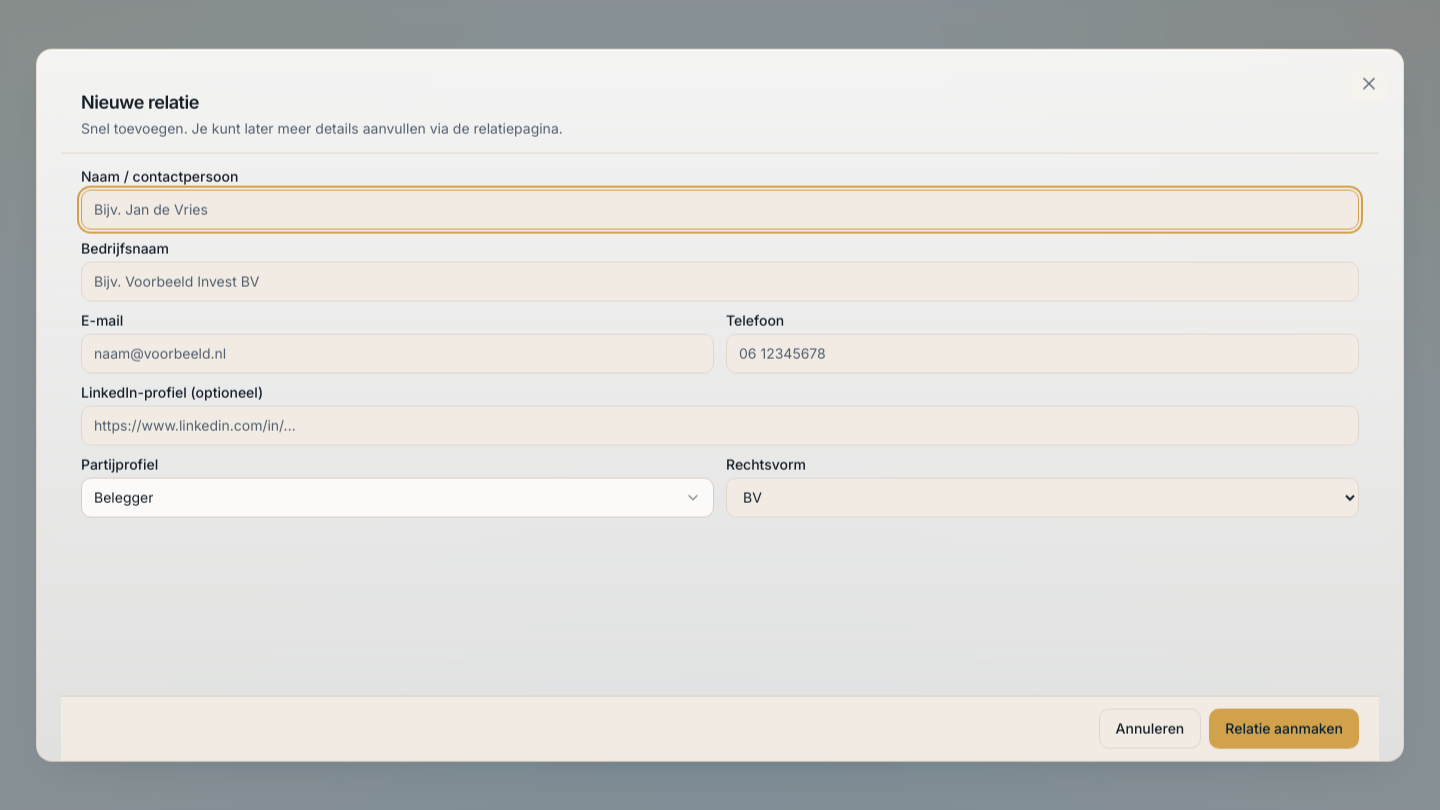
Test: QuickCreateRelationDialog › toont duplicate-hint bij exact e-mailmatch
The image size is (1440, 810).
In the field labelled "E-mail": (398,353) 81,333 -> 714,373, type "FOO@bar.nl"
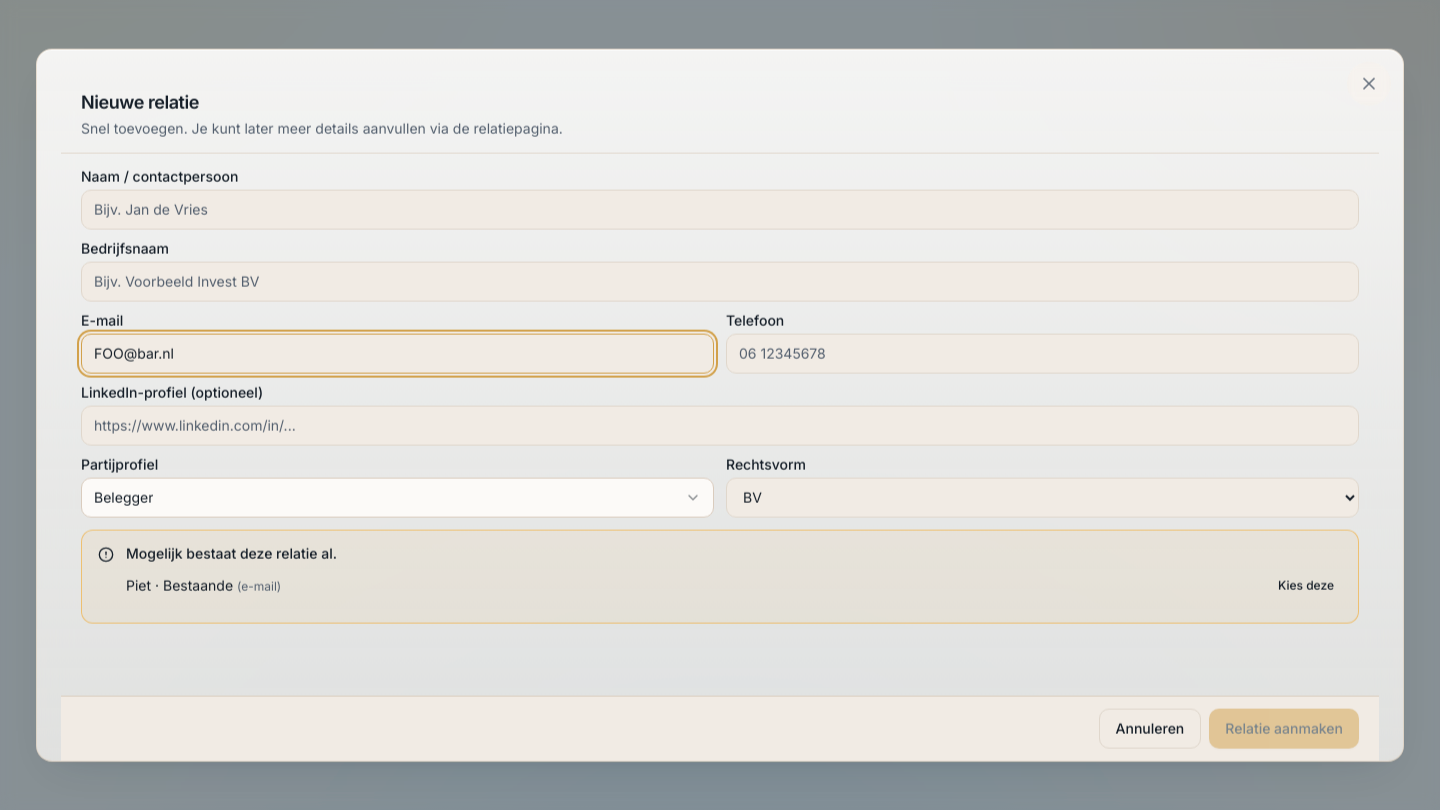
Now the text "Mogelijk bestaat deze relatie al." is shown, box 126,544 -> 337,561
